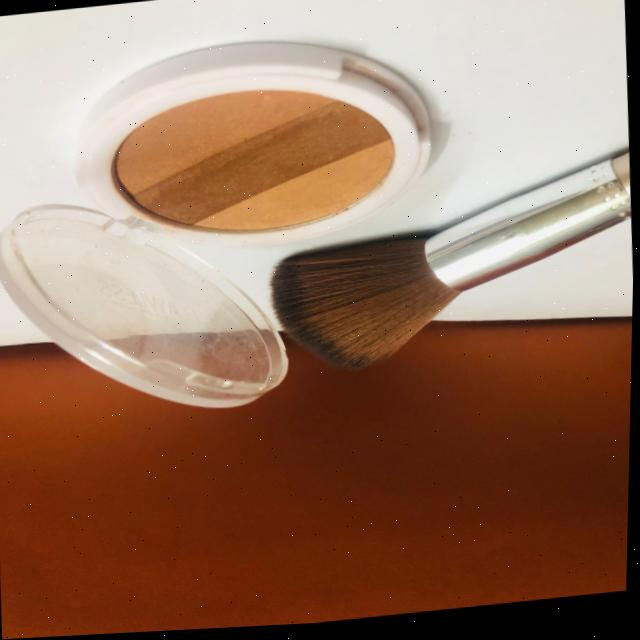brush: (300, 148, 637, 384)
powder: (67, 29, 431, 270)
